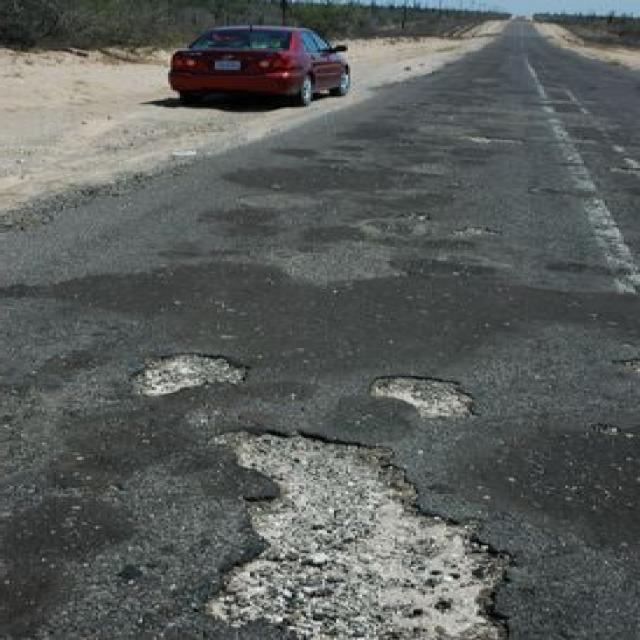pothole: (193, 426, 538, 638), (114, 340, 260, 398), (364, 365, 492, 423)
